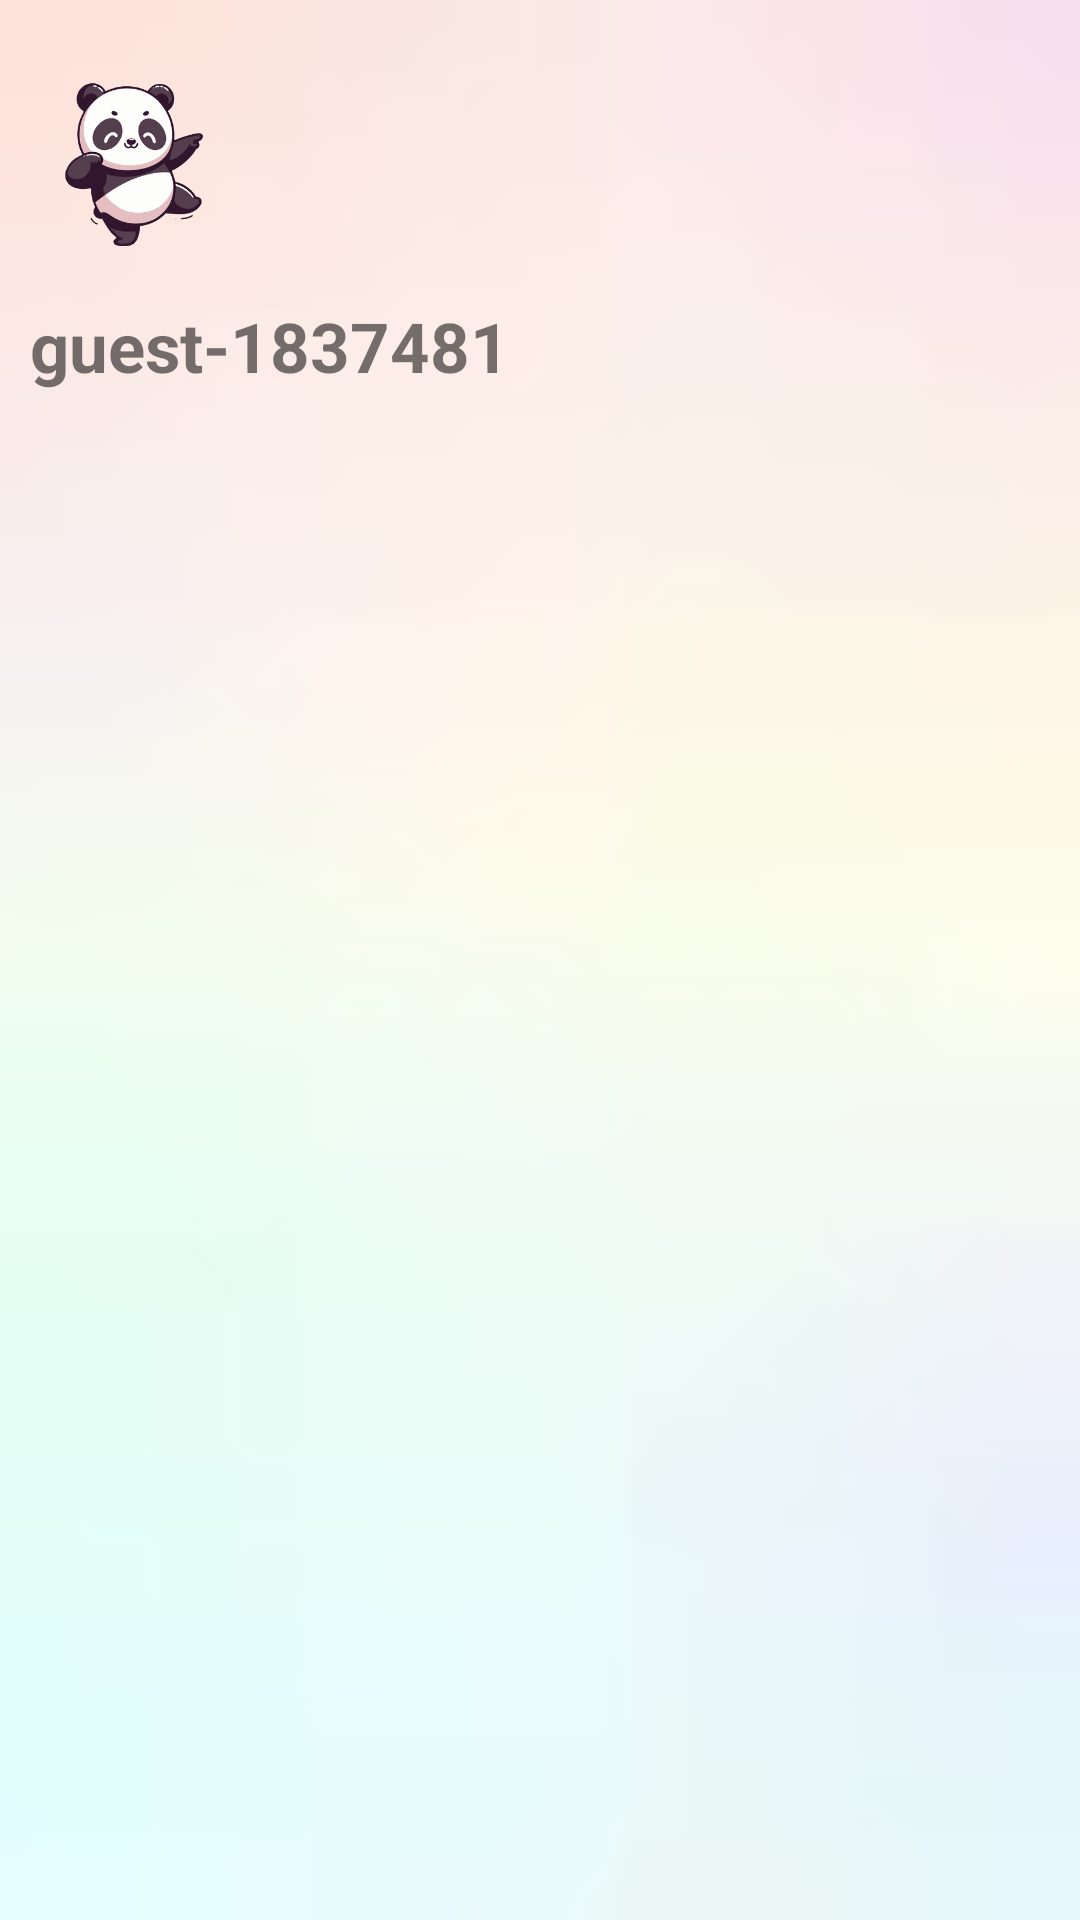

Icon click points for this 1080×1920 phone screenshot, format (x=x, y=y):
dancingpanda: (x=134, y=164)
